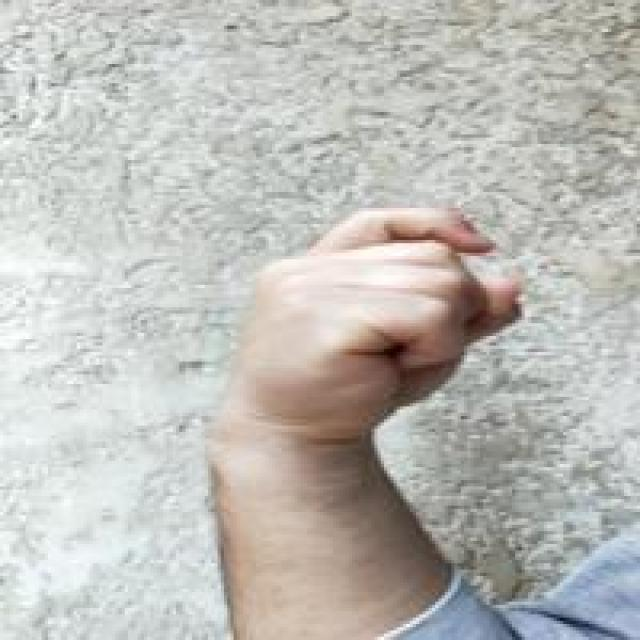X: (190, 198, 533, 454)
